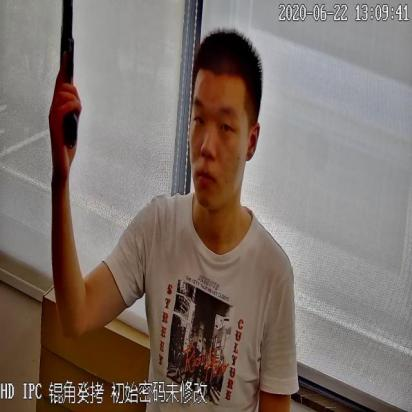Gun: (55, 0, 82, 151)
